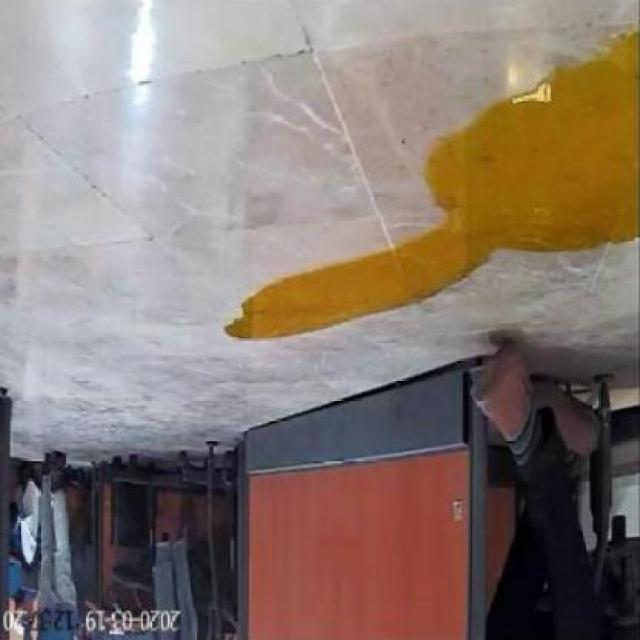spillage: (226, 29, 640, 338)
